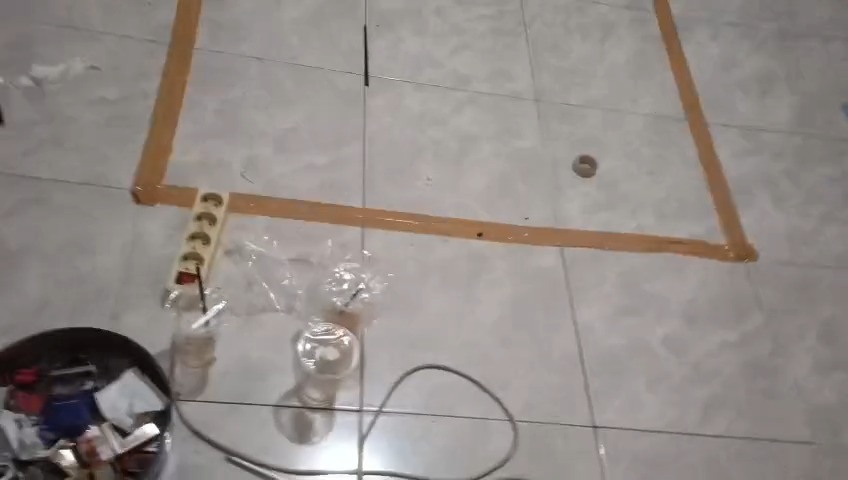floor marking: (228, 0, 757, 262), (131, 0, 202, 207)
